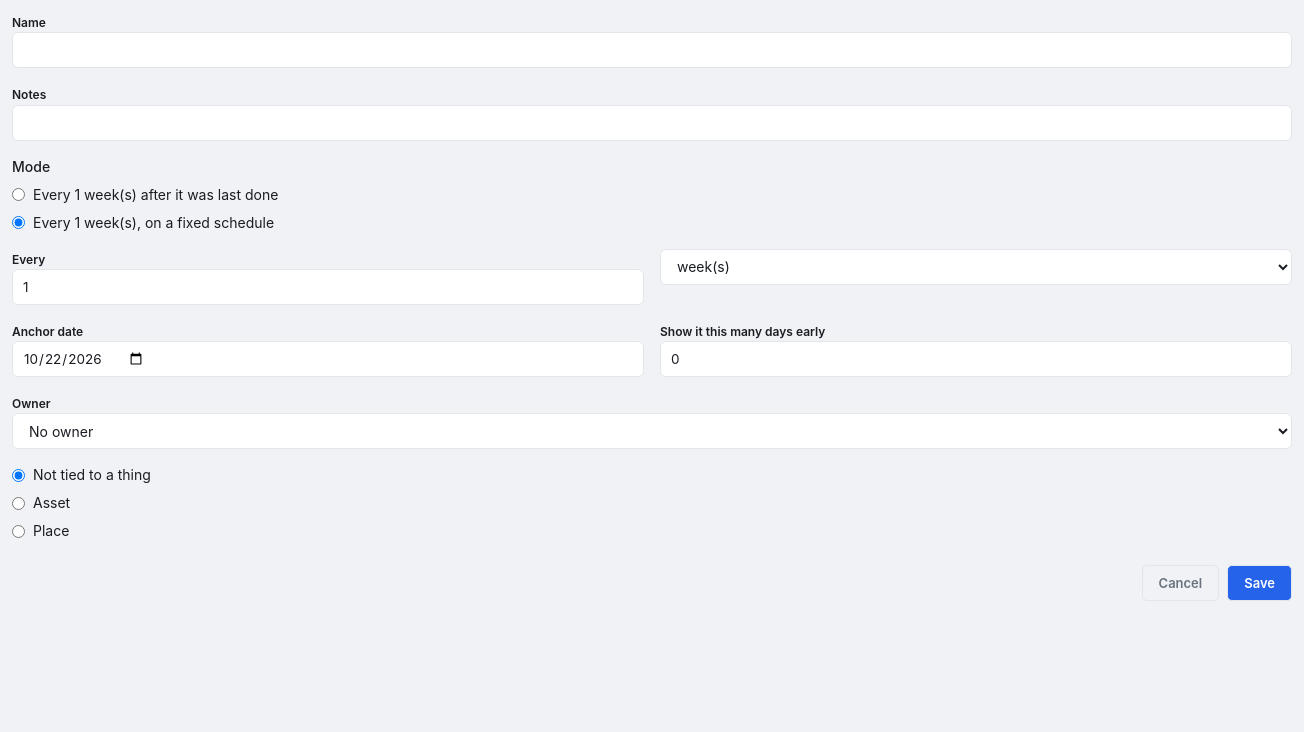
Test case: RoutineForm — serviceIntervalMonths is a default, never a trigger › DOES prefill from serviceIntervalMonths when the maker freshly ties a NEW routine to that asset
This screenshot has width=1304, height=732.
Click the radio button named "anchor-asset" at [18, 503], box [12,497,25,510]
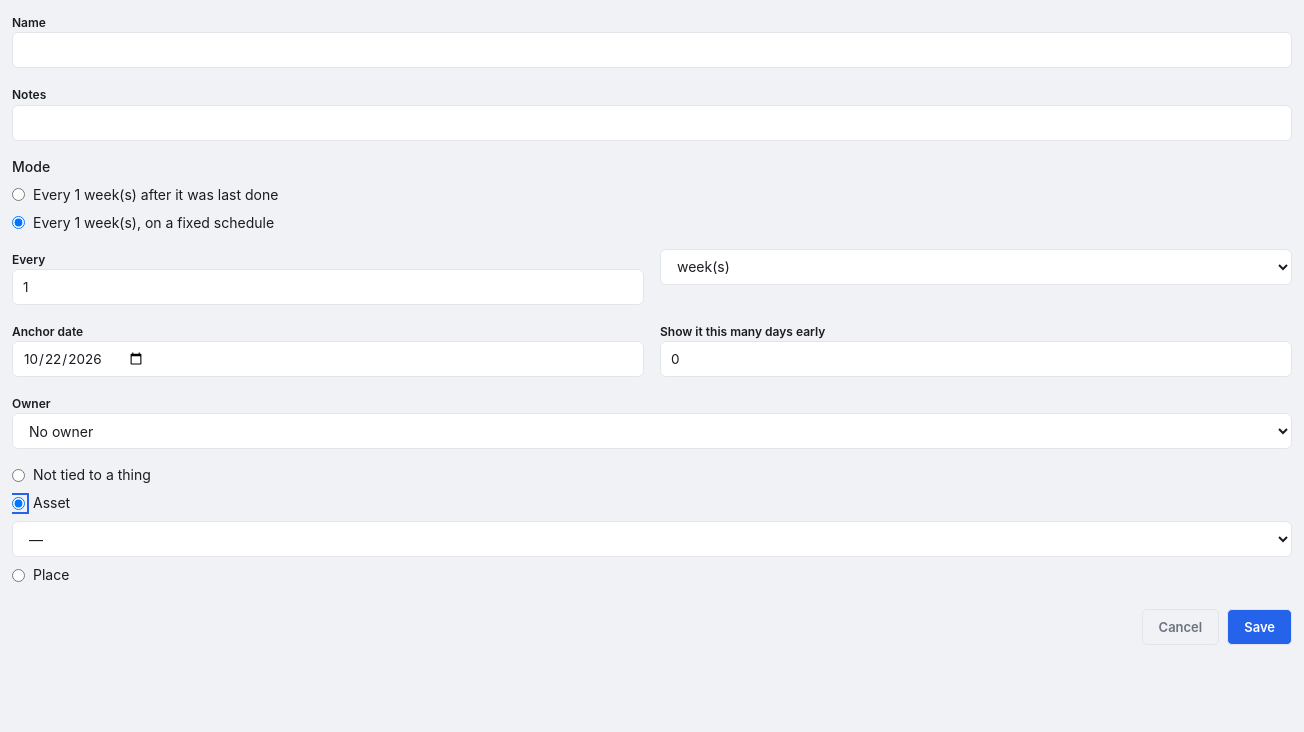
Select "Boiler" in the dropdown named "Asset" at [652, 539], box [12,521,1292,557]
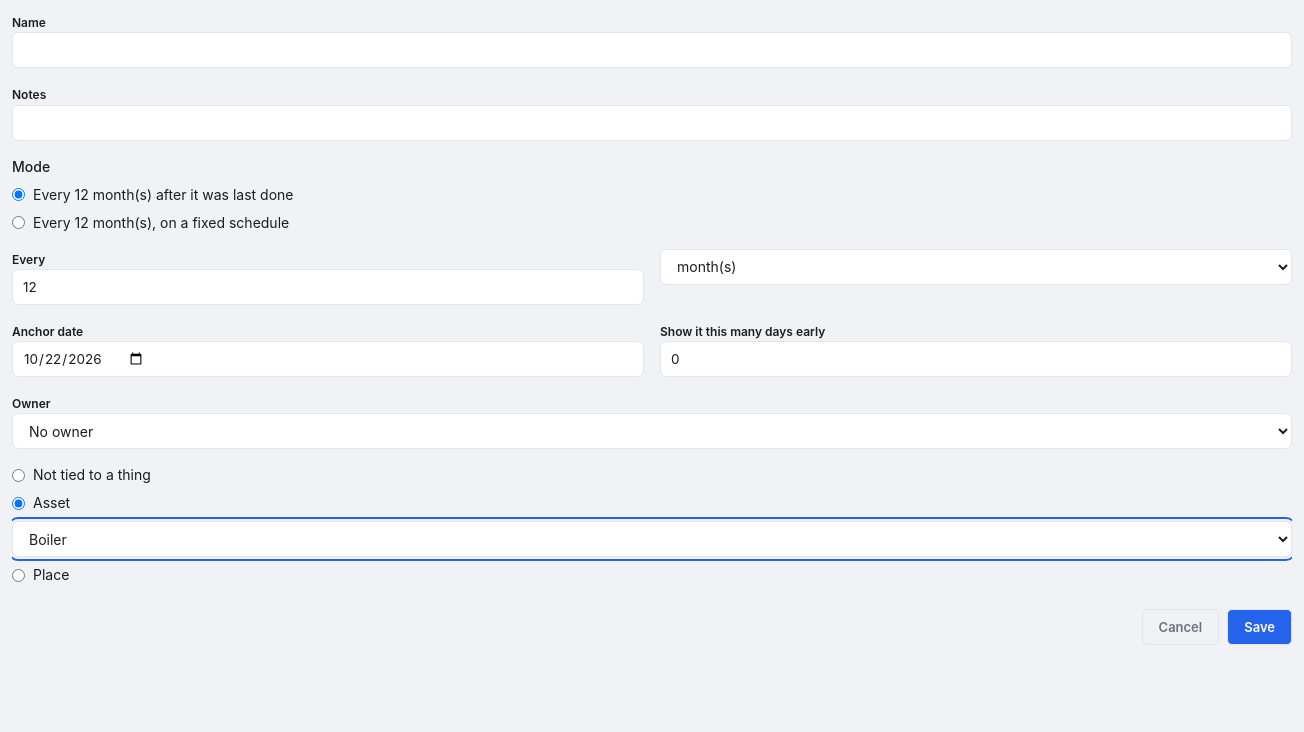
Result: the number field labelled "Every" holds "12" at [12,269,644,305]
Result: the radio button named "mode-from-completion" is checked at [12,188,25,201]
